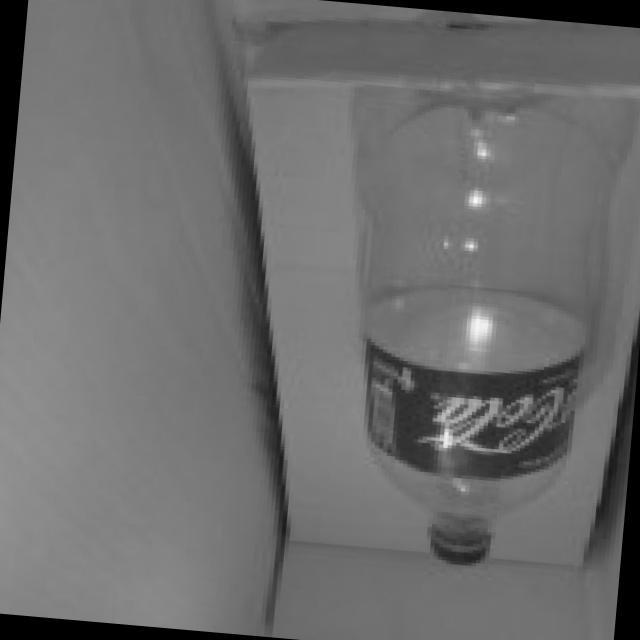good: (294, 58, 626, 582)
